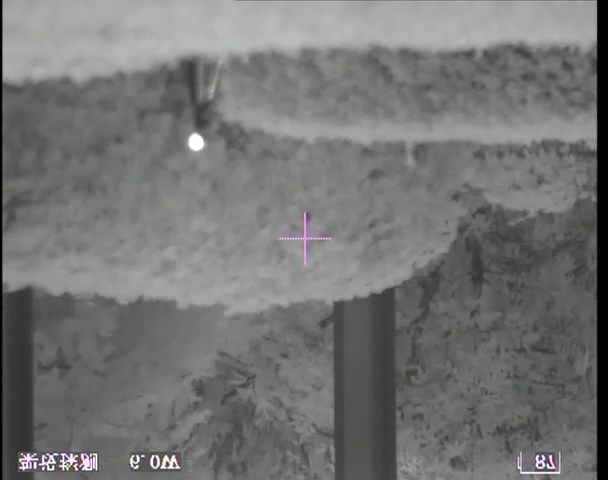my: (187, 132, 205, 152)
